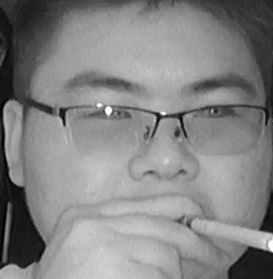eye: (190, 103, 234, 124), (90, 105, 134, 124)
glass: (61, 101, 159, 158), (178, 102, 270, 157)
